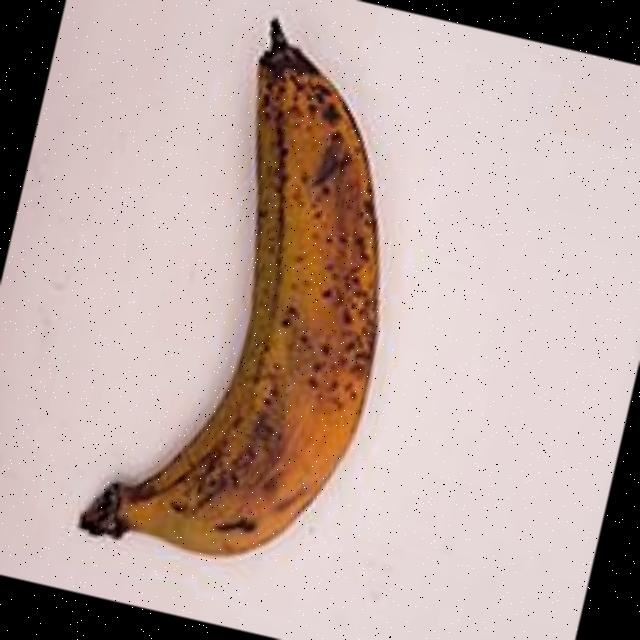Overripe: (29, 0, 472, 637)
